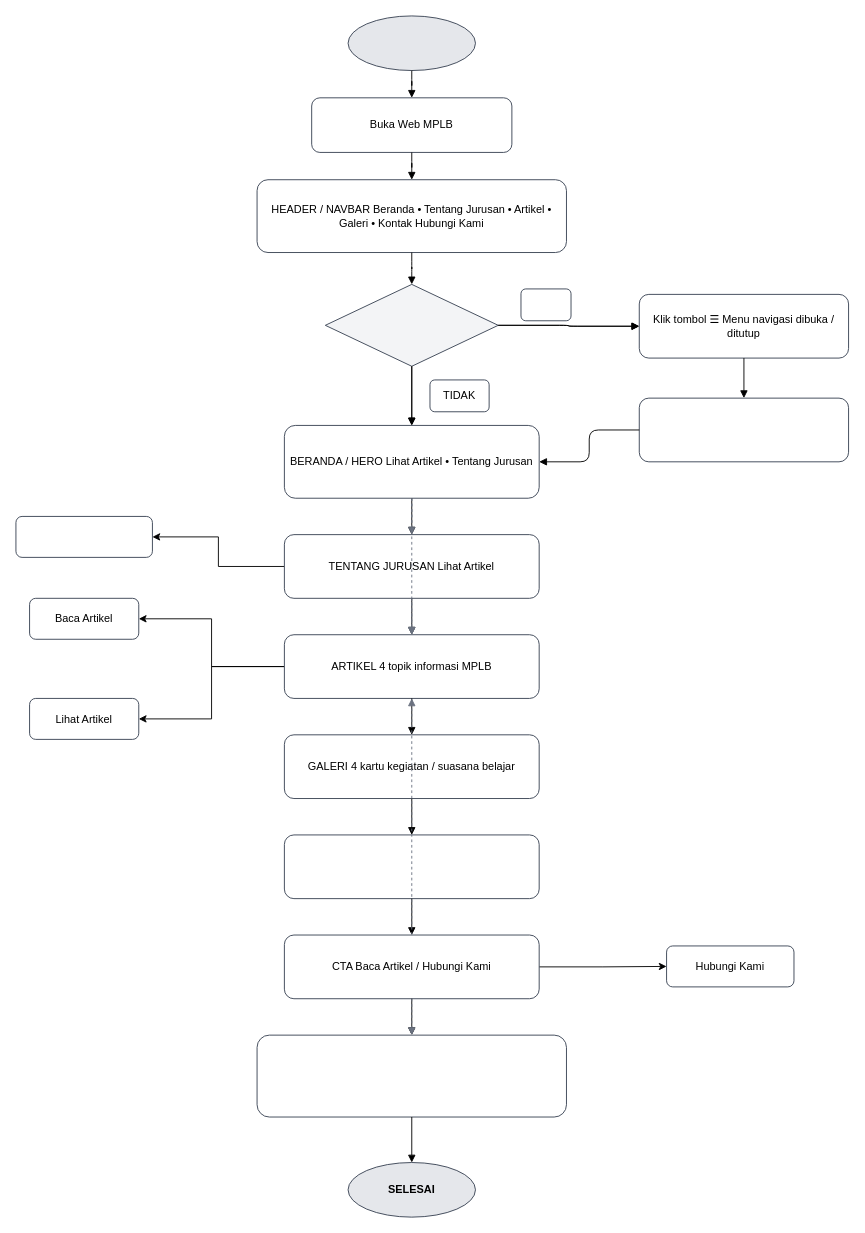
This 865x1233 diagram has some shape labels left out. Each missing label, with the box of its shape:
Carousel Galeri Sebelumnya ← / Berikutnya →: (283, 834, 539, 899)
FOOTER / KONTAK Tautan cepat • Kontak • Lokasi Instagram • YouTube • Facebook: (256, 1034, 566, 1117)
Klik menu navbar → menuju section yang dipilih: (638, 397, 849, 462)
Mode mobile?: (324, 283, 498, 366)
MULAI: (347, 15, 475, 71)
Tentang Jurusan: (15, 516, 152, 557)
YA: (520, 288, 571, 321)
